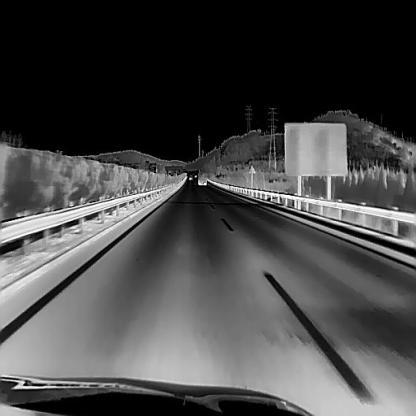car: (197, 169, 207, 184)
